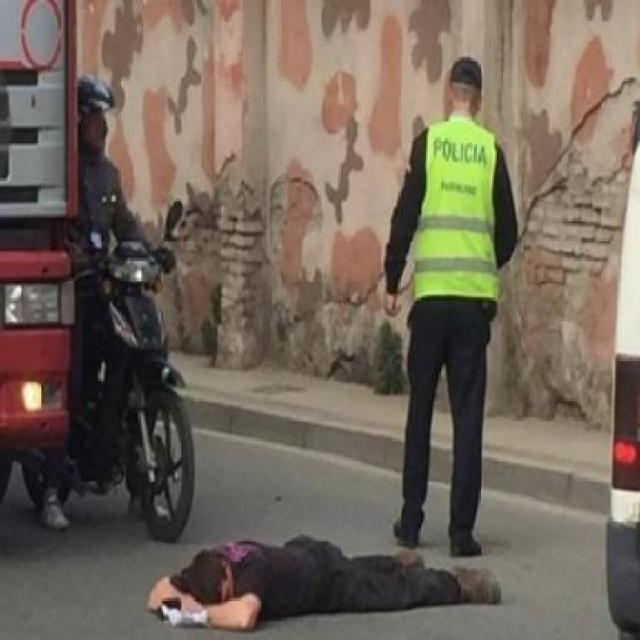fall: (141, 516, 502, 632)
